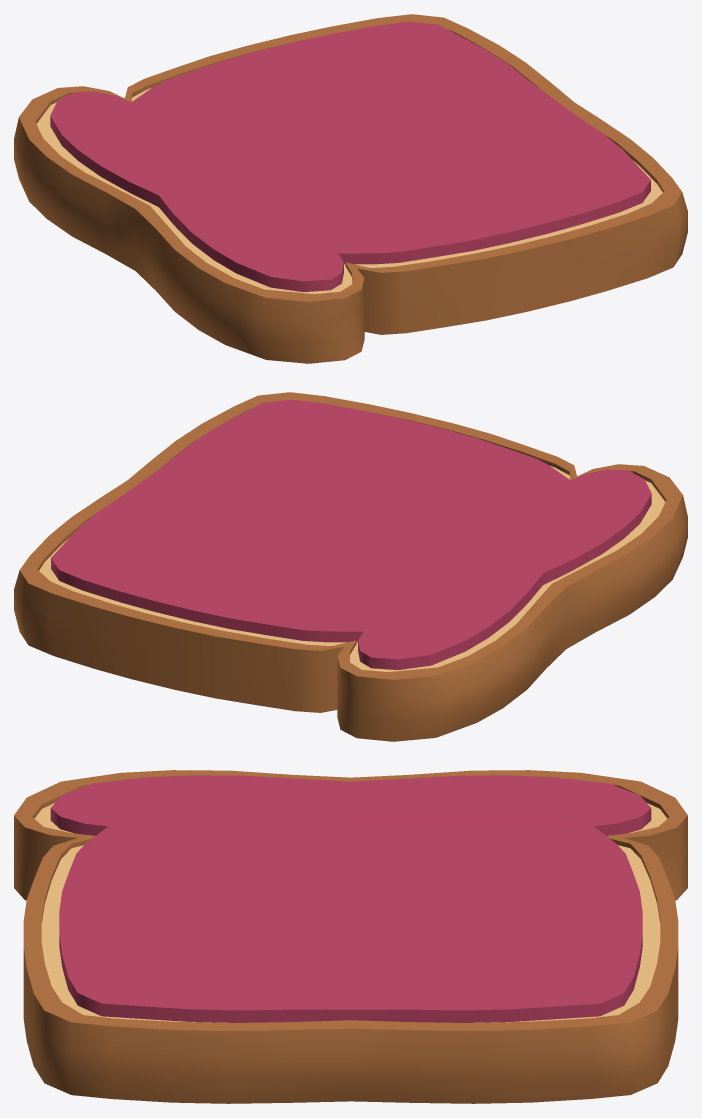
File: Bread_Jam.fbx
3 renders of one model, top to bottom at view 1: azimuth 30°, elevation 25°; view 2: azimuth 150°, elevation 25°; view 3: azimuth 270°, elevation 25°, orthographic. The views are drawn at different scales.
Visible parts, largest first — view 1: jamBread; view 2: jamBread; view 3: jamBread.
Boxes of the visible parts, x1=… form: jamBread: x1=14, y1=14, x2=687, y2=363; jamBread: x1=14, y1=392, x2=687, y2=741; jamBread: x1=14, y1=770, x2=687, y2=1103.
Size of what is drawn, in the model's own units: 13.25 by 1.91 by 14.18.
1 material, 1 textured.
